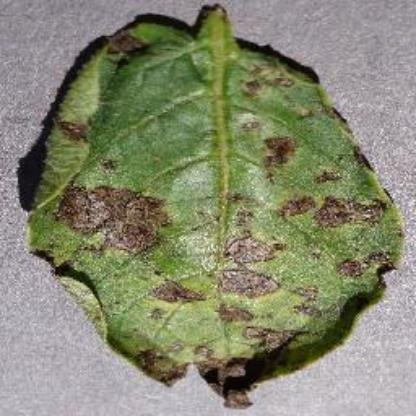Early-Blight: (25, 4, 405, 408)
